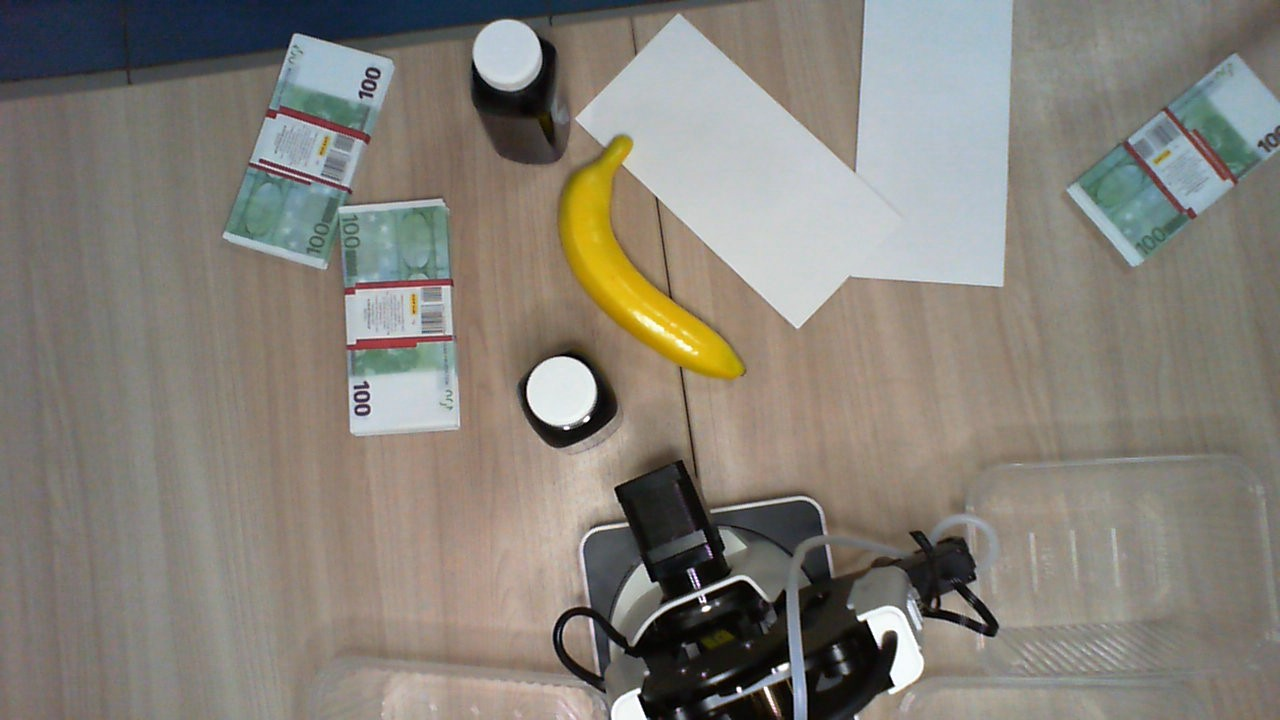banana: (553, 135, 746, 380)
bottle: (517, 350, 623, 444), (475, 16, 553, 119)
convert: (576, 14, 903, 330), (853, 1, 1014, 286)
money: (1065, 49, 1280, 267), (220, 32, 399, 267), (337, 197, 463, 436)
